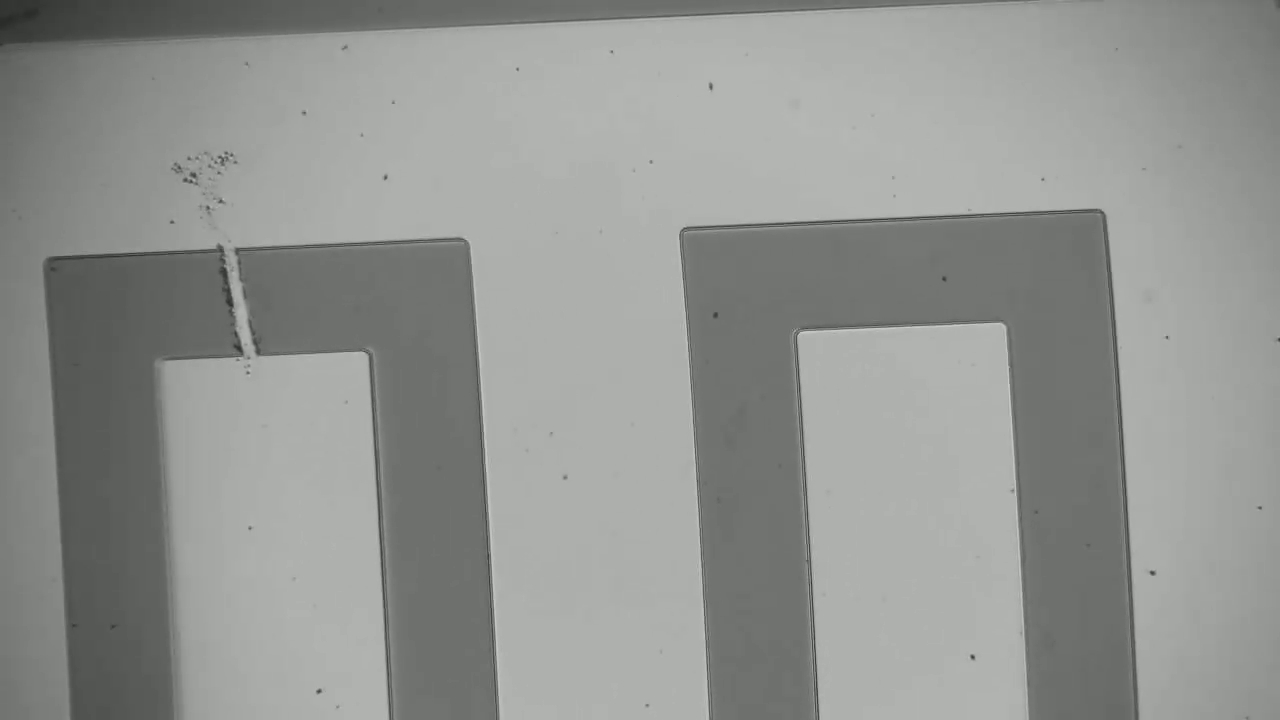Short_circuit: (203, 226, 280, 371)
